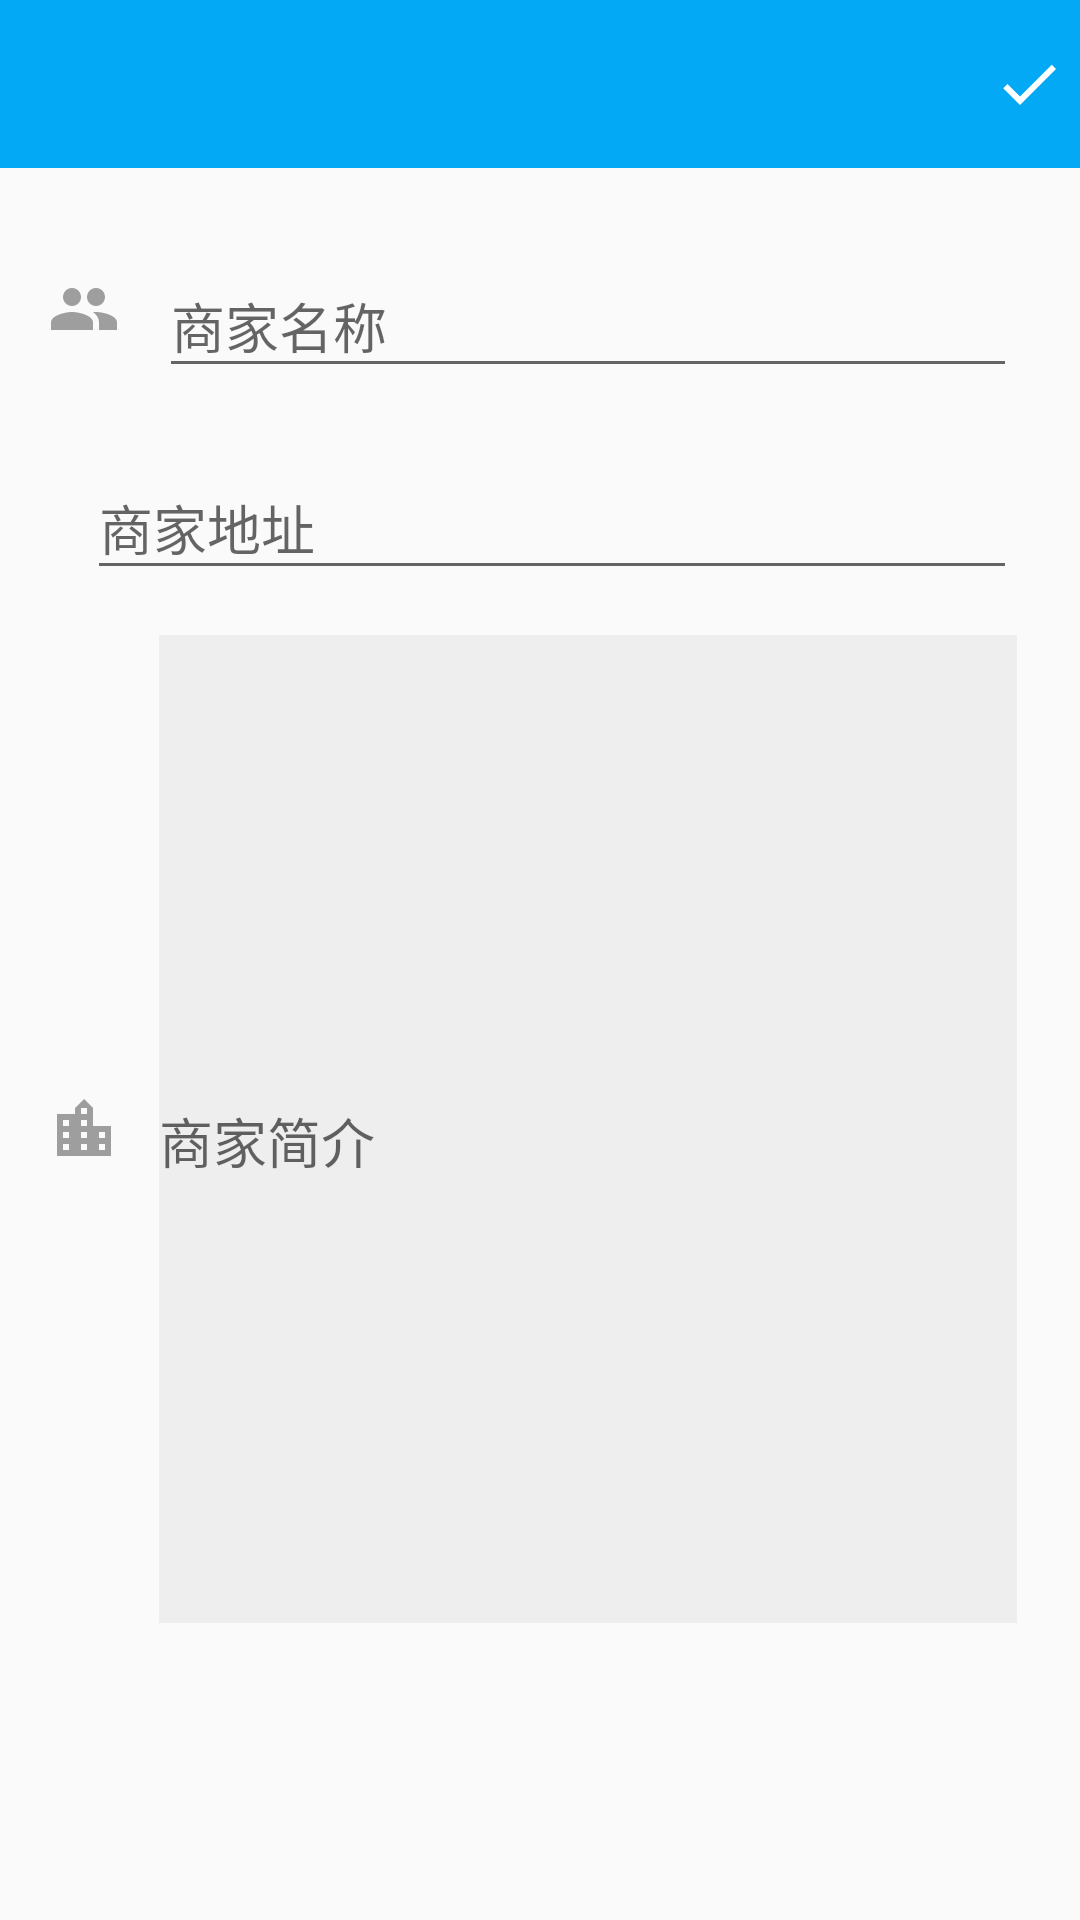

Where icons sit on this 1080 x 1920 app screen, as (x1, y1, x2, y2):
check: (1003, 65, 1056, 105)
company content: (57, 1099, 111, 1156)
